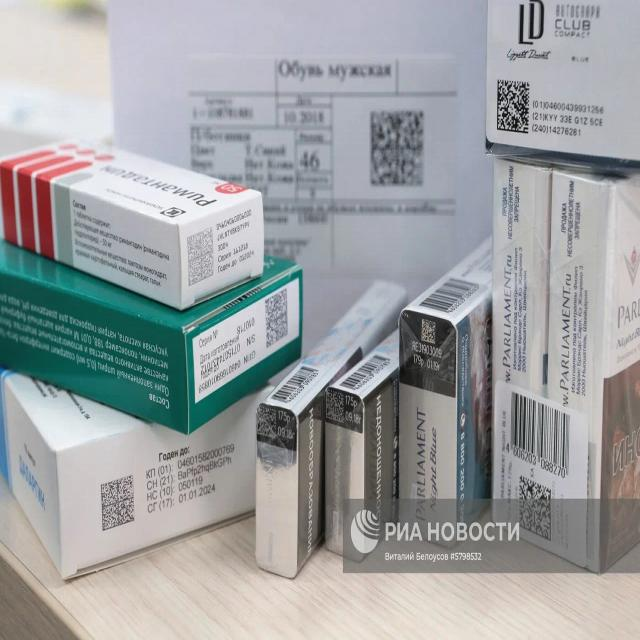datamatrix: (370, 108, 426, 188), (519, 474, 553, 542), (101, 474, 136, 533), (497, 79, 532, 136), (187, 226, 216, 289), (265, 286, 290, 350), (326, 389, 346, 426), (257, 406, 278, 440), (422, 317, 437, 347)
